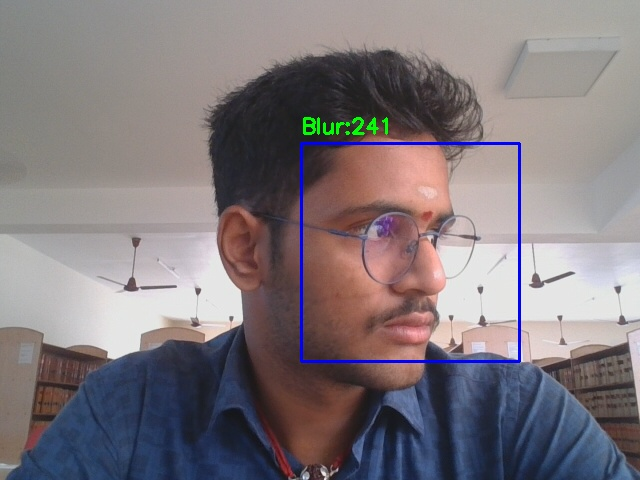real: (301, 143, 519, 361)
